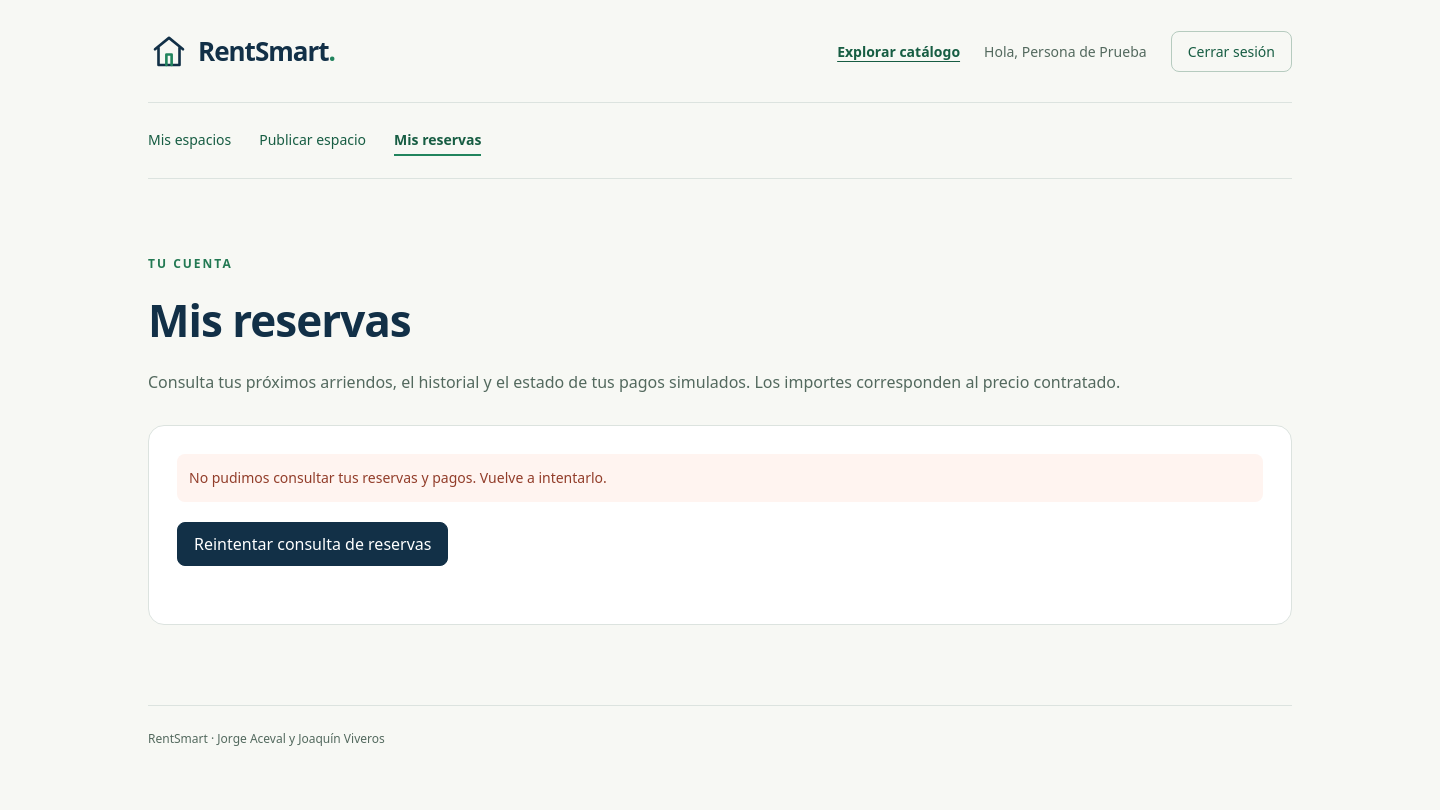
Scenario: HU13: diferencia una lista vacía de errores de servicio y permite reintentar sin mostrar datos antiguos
Check: the message shows "No pudimos consultar tus reservas y pagos", box 189,468 -> 607,487
Check: the text "Aún no tienes reservas." is not shown
Click the button "Reintentar consulta de reservas" at point(313, 544), box 177,522 -> 448,566
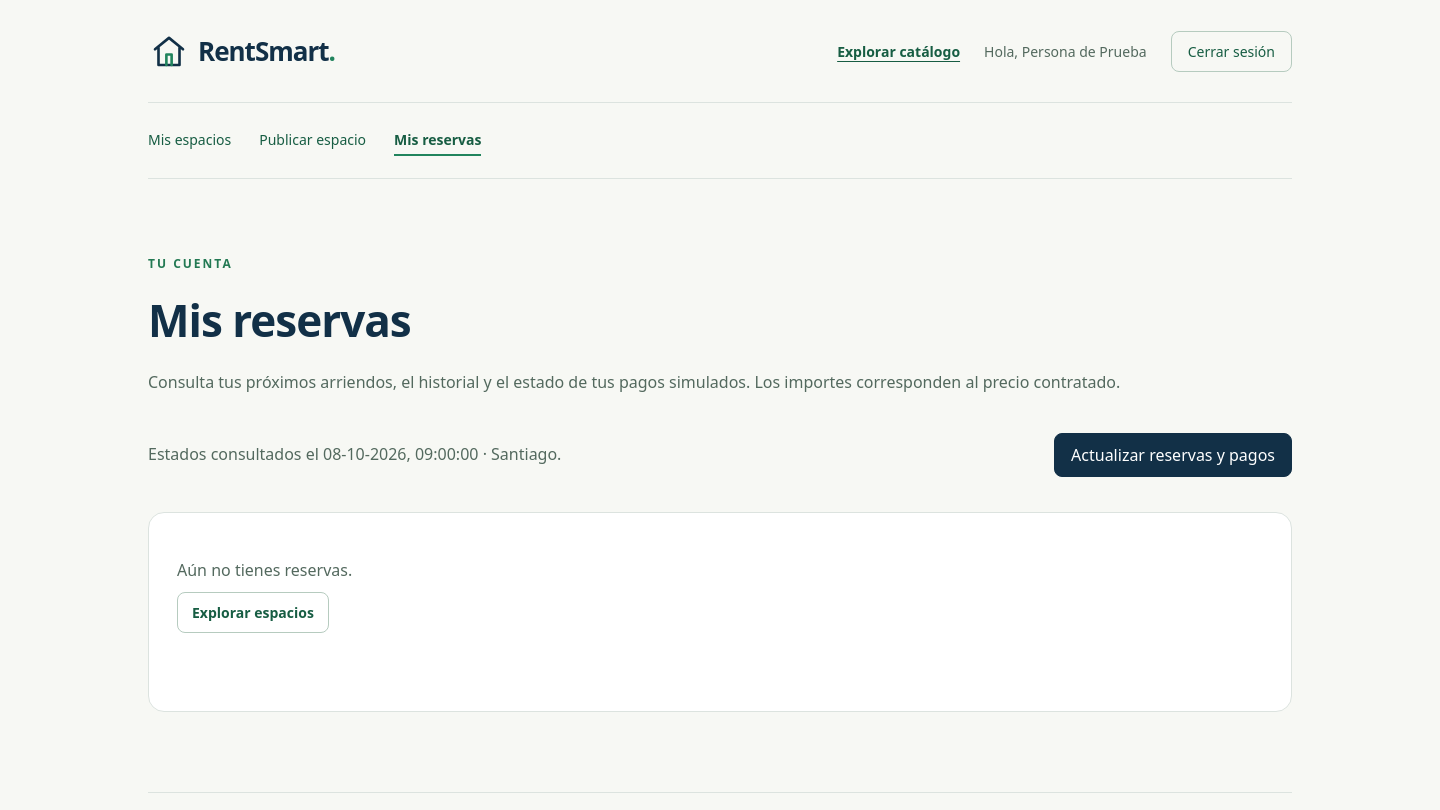
Check: the text "Aún no tienes reservas." is shown, box 177,559 -> 352,581
Click the button "Actualizar reservas y pagos" at point(1173, 455), box 1054,433 -> 1292,477
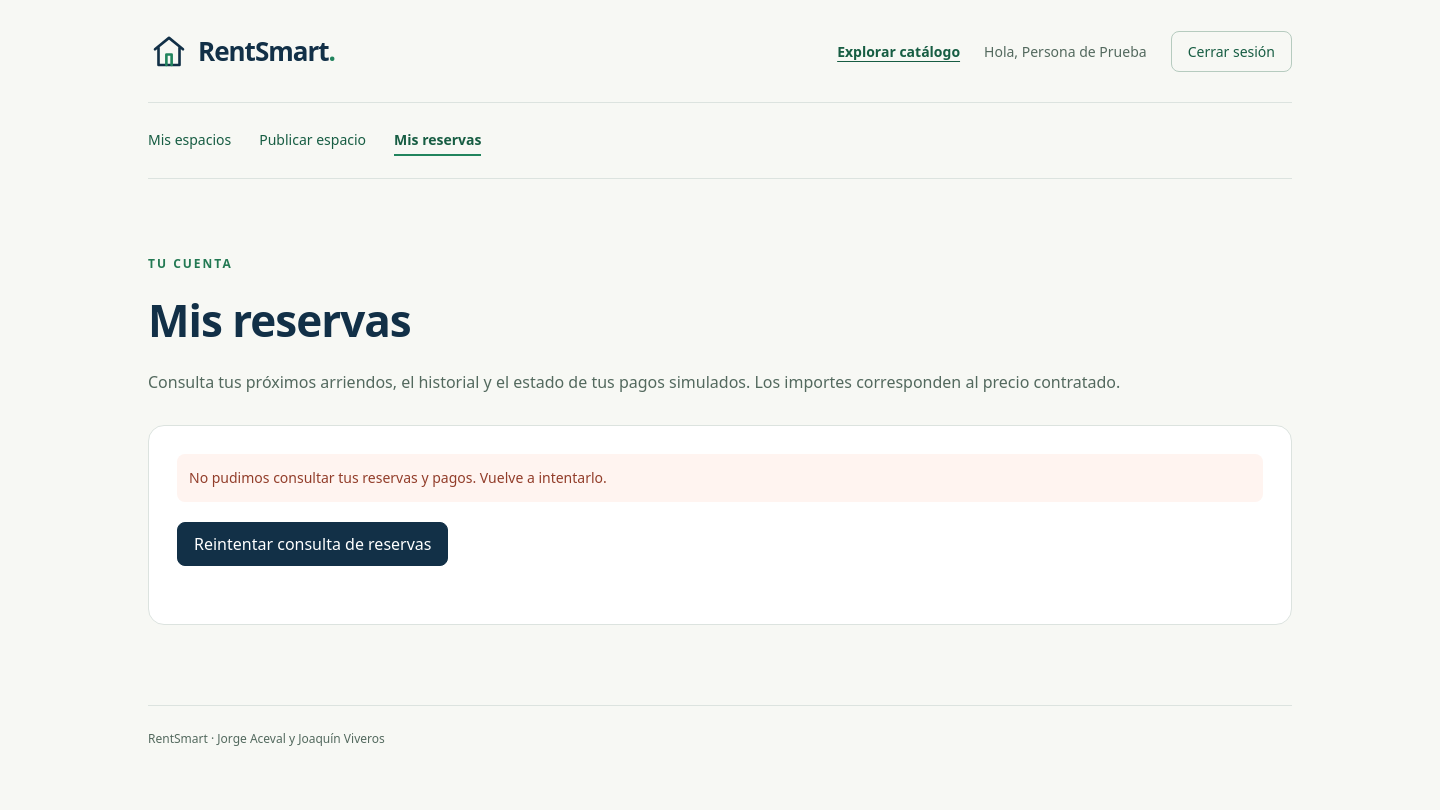
Check: the message "No pudimos consultar tus reservas y pagos. Vuelve a intentarlo." is shown, box 177,454 -> 1263,502
Check: the text "Aún no tienes reservas." is gone
